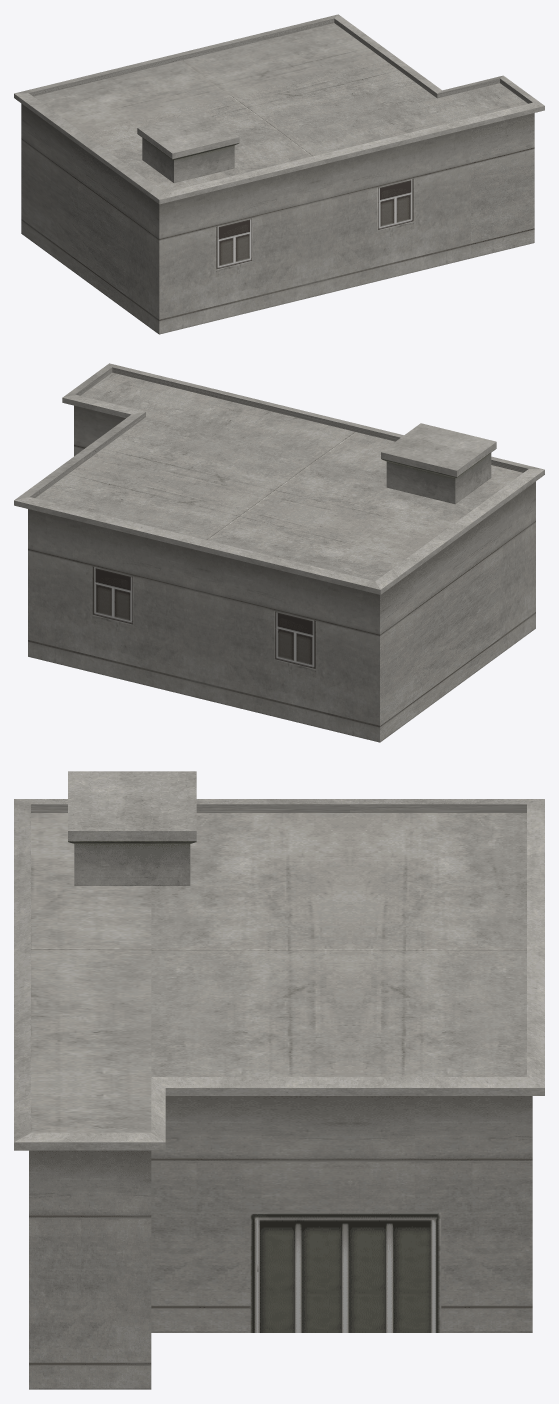
The model's file is dehydrator_01.obj.
The picture shows the model from 3 angles, top to bottom: view 1: azimuth 30°, elevation 25°; view 2: azimuth 150°, elevation 25°; view 3: azimuth 270°, elevation 25°; orthographic projection. The views are drawn at different scales.
Visible parts, largest first — view 1: Object141; view 2: Object141; view 3: Object141.
Part boxes in pixels (x1,y1,x2,y2): Object141: (14, 14, 544, 334); Object141: (14, 363, 544, 742); Object141: (14, 771, 544, 1389).
Size of the model in its own units: 60.7 by 25.18 by 39.66.
